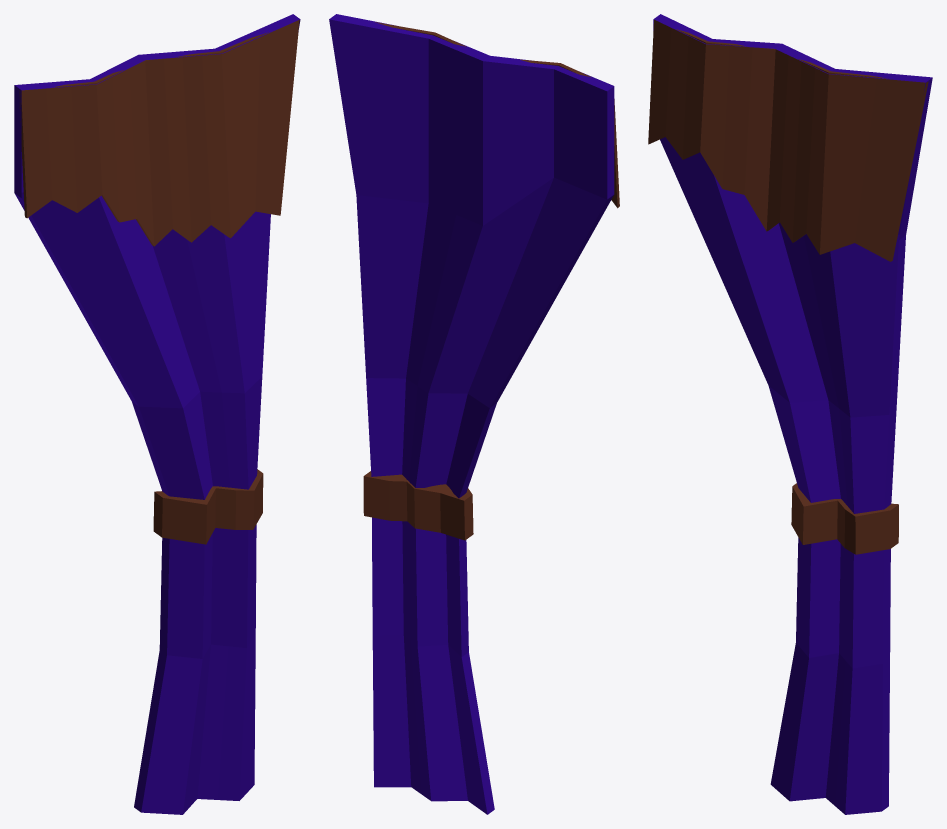
The model's file is clothDoorSection_right.glb.
The picture shows the model from 3 angles, left to right: view 1: azimuth 30°, elevation 25°; view 2: azimuth 150°, elevation 25°; view 3: azimuth 330°, elevation 25°; orthographic projection. The views are drawn at different scales.
Parts seen in each view (by area): view 1: Cube.001, Cube.002, Cube.003; view 2: Cube.001, Cube.003, Cube.002; view 3: Cube.001, Cube.002, Cube.003.
Boxes of the visible parts, <box> form: Cube.001: <box>14,14,300,814</box>; Cube.002: <box>19,20,299,246</box>; Cube.003: <box>153,469,263,544</box>; Cube.001: <box>329,14,614,814</box>; Cube.003: <box>363,471,473,540</box>; Cube.002: <box>375,22,619,208</box>; Cube.001: <box>653,14,932,814</box>; Cube.002: <box>648,19,928,261</box>; Cube.003: <box>791,483,898,554</box>.
Size of the model in its own units: 0.6351 by 1.65 by 0.1124.
